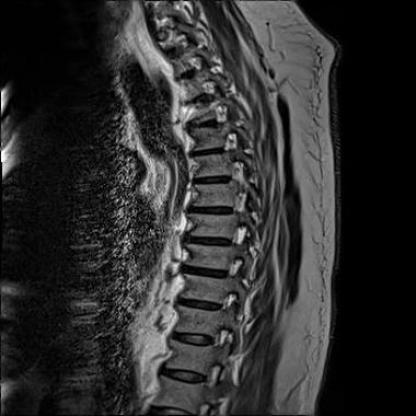Osteophytesrotation: (135, 1, 240, 415)
